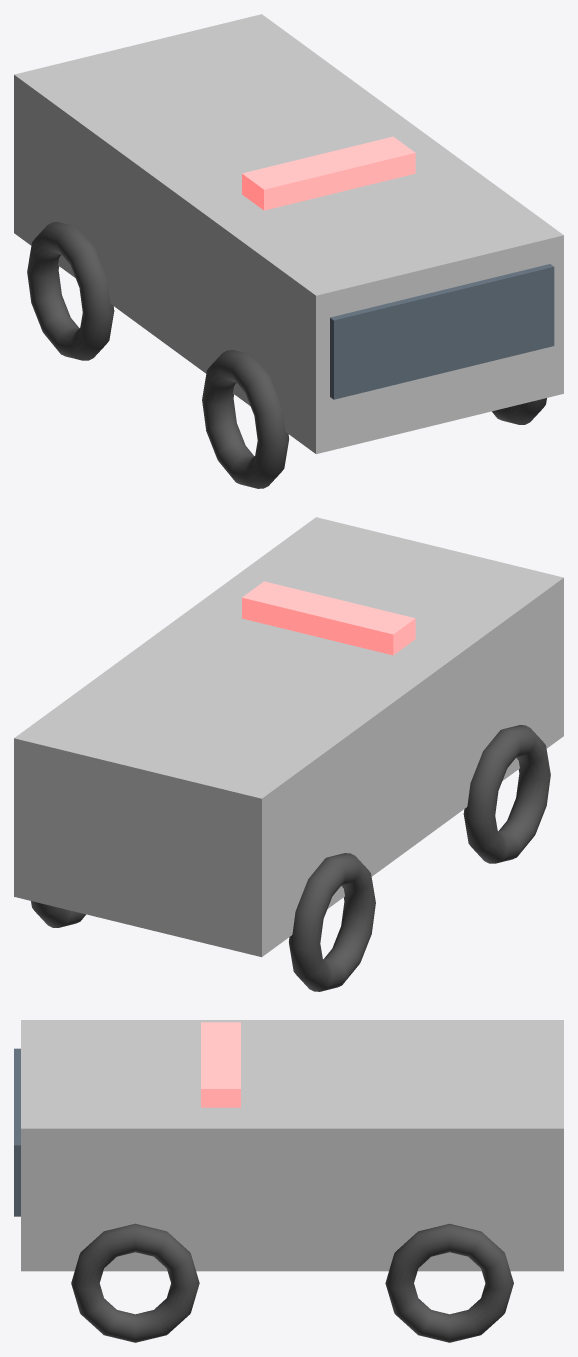
The model's file is 2d4649d8-251b-4f25-9bf1-bdd05222e538.glb.
3 renders of one model, top to bottom at view 1: azimuth 30°, elevation 25°; view 2: azimuth 150°, elevation 25°; view 3: azimuth 270°, elevation 25°, orthographic. The views are drawn at different scales.
Parts seen in each view (by area): view 1: Generated3DMesh; view 2: Generated3DMesh; view 3: Generated3DMesh.
Part boxes in pixels (left/top/right/bottom): Generated3DMesh: left=14, top=14, right=563, bottom=488; Generated3DMesh: left=14, top=517, right=563, bottom=991; Generated3DMesh: left=14, top=1020, right=563, bottom=1342.
Size of the model in its own units: 2.1 by 1.77 by 3.85.
